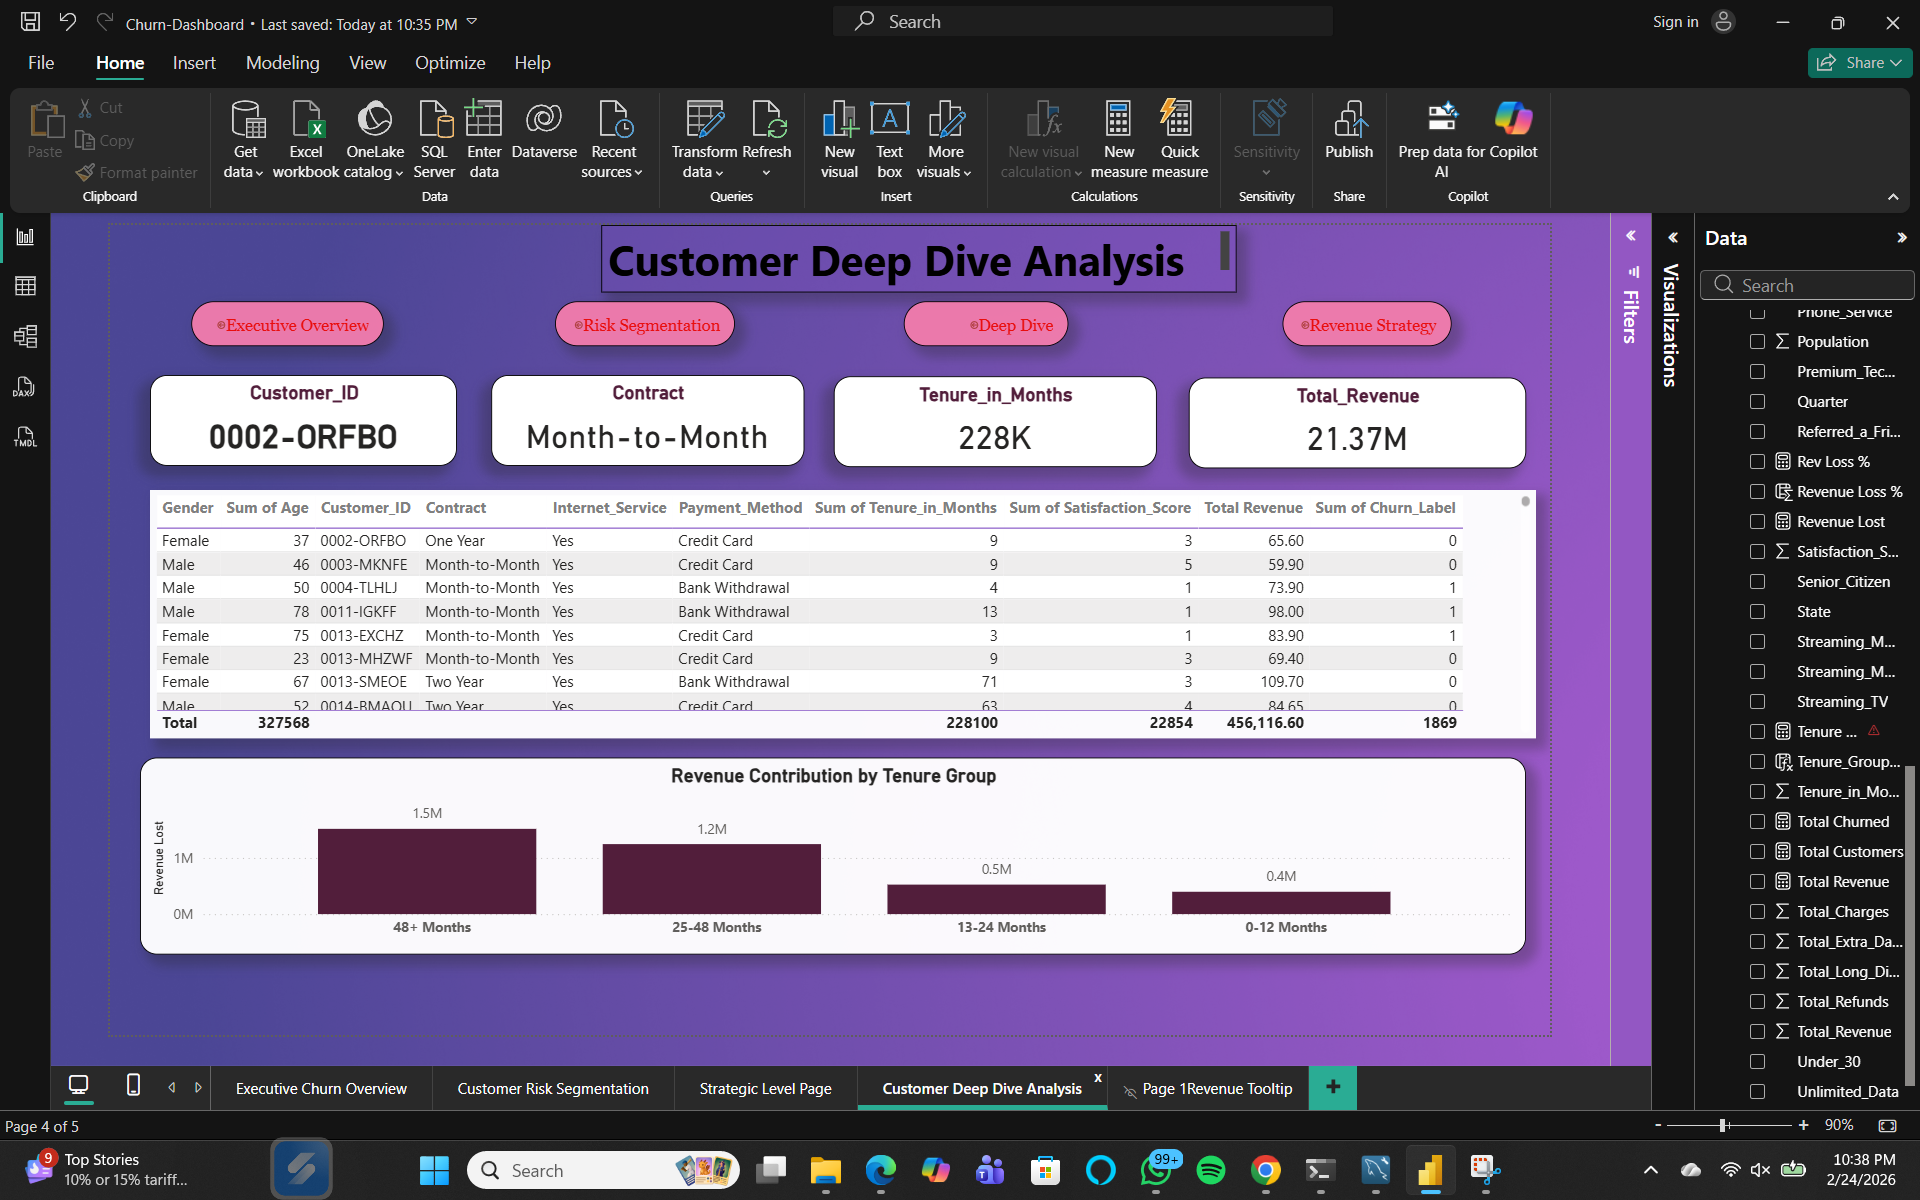

The dashboard page shown, as its layout file describes it:
{"tool":"powerbi","page":{"name":"Customer Deep Dive Analysis","canvas":[1280,720],"ordinal":3},"visuals":[{"type":"textbox","box":[436.7,0,564.4,60],"z":0},{"type":"card","title":"Tenure_in_Months","fields":{"Values":["Sum(churn_analysis.Tenure_in_Months)"]},"box":[643,134,287,81],"z":1000},{"type":"card","title":"Total_Revenue","fields":{"Values":["Sum(churn_analysis.Total_Revenue)"]},"box":[959,135,300,81],"z":2000},{"type":"card","title":"Customer_ID","fields":{"Values":["Min(churn_analysis.Customer_ID)"]},"box":[36,133,273,81],"z":3000},{"type":"card","title":"Contract","fields":{"Values":["Min(churn_analysis.Contract)"]},"box":[339,133,278,81],"z":4000},{"type":"tableEx","fields":{"Values":["churn_analysis.Gender","Sum(churn_analysis.Age)","churn_analysis.Customer_ID","churn_analysis.Contract","churn_analysis.Internet_Service","churn_analysis.Payment_Method","Sum(churn_analysis.Tenure_in_Months)","Sum(churn_analysis.Satisfaction_Score)","churn_analysis.Total Revenue","Sum(churn_analysis.Churn_Label)"]},"box":[36,235,1232,221],"z":5000},{"type":"clusteredColumnChart","title":"Revenue Contribution by Tenure Group","fields":{"Category":["churn_analysis.Tenure_Group_Col"],"Y":["churn_analysis.Revenue Lost"]},"box":[27,473,1232,175],"z":6000},{"type":"actionButton","box":[72,68,171,40],"z":7000},{"type":"actionButton","box":[396,68,160,40],"z":8000},{"type":"actionButton","box":[1042,68,150,40],"z":9000},{"type":"actionButton","box":[705,68,146,40],"z":10000}]}

Visuals, with their boxes on the page's 1280x720 design canvas (x1, y1, x2, y2). These are canvas units, not pixel positions in the 1920x1200 screenshot, which may show the page scaled, cropped or inside an application window:
textbox: select_region(437, 0, 1001, 60)
"Tenure_in_Months" card: select_region(643, 134, 930, 215)
"Total_Revenue" card: select_region(959, 135, 1259, 216)
"Customer_ID" card: select_region(36, 133, 309, 214)
"Contract" card: select_region(339, 133, 617, 214)
tableEx - churn_analysis.Gender x Sum(churn_analysis.Age): select_region(36, 235, 1268, 456)
"Revenue Contribution by Tenure Group" clusteredColumnChart: select_region(27, 473, 1259, 648)
actionButton: select_region(72, 68, 243, 108)
actionButton: select_region(396, 68, 556, 108)
actionButton: select_region(1042, 68, 1192, 108)
actionButton: select_region(705, 68, 851, 108)
